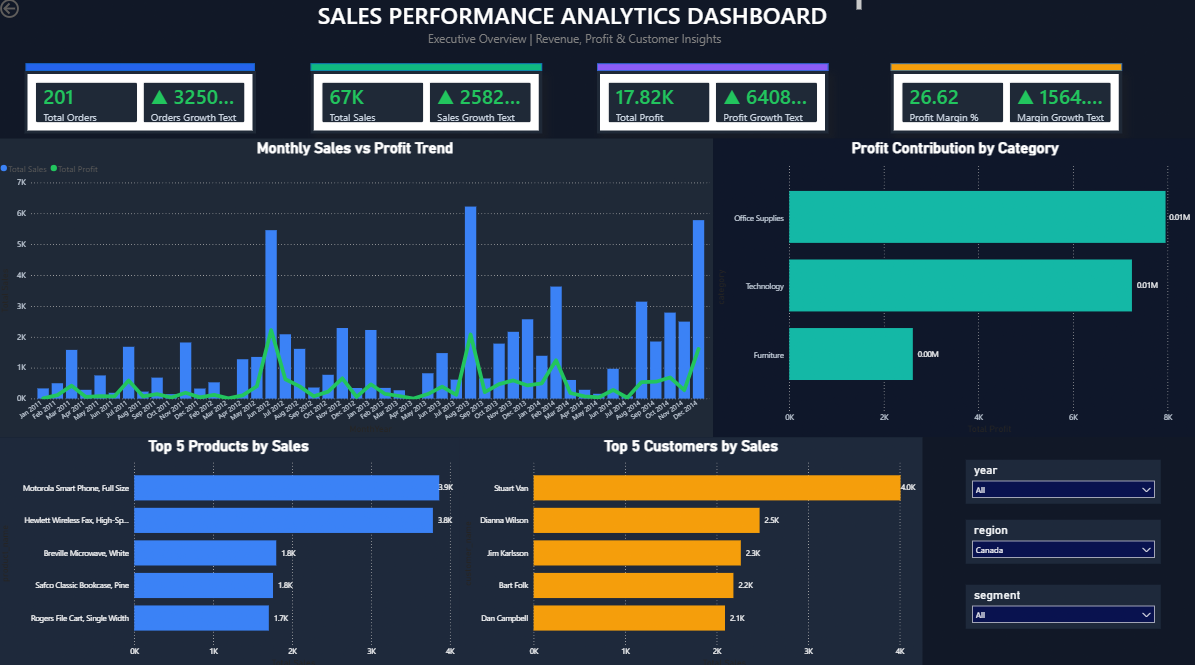

The dashboard page shown, as its layout file describes it:
{"tool":"powerbi","page":{"name":"Page 1","canvas":[1920,1080],"ordinal":0},"visuals":[{"type":"textbox","box":[460.6,0,927.9,50.2],"z":0},{"type":"textbox","box":[574.5,50.2,700.1,48.6],"z":1000},{"type":"cardVisual","fields":{"Data":["SuperStoreOrders_PowerBI.Total Orders","SuperStoreOrders_PowerBI.Orders Growth Text"]},"box":[44,120,370,100],"z":2000},{"type":"cardVisual","fields":{"Data":["SuperStoreOrders_PowerBI.Profit Margin %","SuperStoreOrders_PowerBI.Margin Growth Text"]},"box":[1430,120,370,100],"z":3000},{"type":"cardVisual","fields":{"Data":["SuperStoreOrders_PowerBI.Total Profit","SuperStoreOrders_PowerBI.Profit Growth Text"]},"box":[960,120,370,100],"z":4000},{"type":"cardVisual","fields":{"Data":["SuperStoreOrders_PowerBI.Total Sales","SuperStoreOrders_PowerBI.Sales Growth Text"]},"box":[502,120,370,100],"z":5000},{"type":"shape","box":[46,108,366,12],"z":6000},{"type":"shape","box":[502,108,370,12],"z":7000},{"type":"shape","box":[960,108,370,12],"z":8000},{"type":"shape","box":[1430,108,370,12],"z":9000},{"type":"lineClusteredColumnComboChart","title":"Monthly Sales vs Profit Trend","fields":{"Category":["SuperStoreOrders_PowerBI.MonthYear"],"Y":["SuperStoreOrders_PowerBI.Total Sales"],"Y2":["SuperStoreOrders_PowerBI.Total Profit"]},"box":[0,228.5,1145.9,477.9],"z":9001},{"type":"clusteredBarChart","title":"Profit Contribution by Category","fields":{"Category":["SuperStoreOrders_PowerBI.category"],"Y":["SuperStoreOrders_PowerBI.Total Profit"]},"box":[1145.9,228.5,774.4,477.9],"z":9002},{"type":"clusteredBarChart","title":"Top 5 Products by Sales","fields":{"Category":["SuperStoreOrders_PowerBI.product_name"],"Y":["SuperStoreOrders_PowerBI.Total Sales"]},"box":[0,706,741,374.6],"z":9003},{"type":"clusteredBarChart","title":"Top 5 Customers by Sales","fields":{"Y":["SuperStoreOrders_PowerBI.Total Sales"],"Category":["SuperStoreOrders_PowerBI.customer_name"]},"box":[741,706,741,374.6],"z":9004},{"type":"slicer","fields":{"Values":["SuperStoreOrders_PowerBI.year"]},"box":[1550,742,312,70],"z":9005},{"type":"slicer","fields":{"Values":["SuperStoreOrders_PowerBI.region"]},"box":[1550,838,312,70],"z":9006},{"type":"slicer","fields":{"Values":["SuperStoreOrders_PowerBI.segment"]},"box":[1550,942,312,70],"z":9007},{"type":"actionButton","box":[0,0,100,40],"z":9009}]}

Visuals, with their boxes in screenshot pixels (x1, y1, x2, y2), scaled from the page's 1920x1080 canvas onto the 1195x665 screenshot:
textbox: 287:0:864:31
textbox: 358:31:793:61
cardVisual - SuperStoreOrders_PowerBI.Total Orders x SuperStoreOrders_PowerBI.Orders Growth Text: 27:74:258:135
cardVisual - SuperStoreOrders_PowerBI.Profit Margin % x SuperStoreOrders_PowerBI.Margin Growth Text: 890:74:1120:135
cardVisual - SuperStoreOrders_PowerBI.Total Profit x SuperStoreOrders_PowerBI.Profit Growth Text: 598:74:828:135
cardVisual - SuperStoreOrders_PowerBI.Total Sales x SuperStoreOrders_PowerBI.Sales Growth Text: 312:74:543:135
shape: 29:66:256:74
shape: 312:66:543:74
shape: 598:66:828:74
shape: 890:66:1120:74
"Monthly Sales vs Profit Trend" lineClusteredColumnComboChart: 0:141:713:435
"Profit Contribution by Category" clusteredBarChart: 713:141:1194:435
"Top 5 Products by Sales" clusteredBarChart: 0:435:461:664
"Top 5 Customers by Sales" clusteredBarChart: 461:435:922:664
slicer - SuperStoreOrders_PowerBI.year: 965:457:1159:500
slicer - SuperStoreOrders_PowerBI.region: 965:516:1159:559
slicer - SuperStoreOrders_PowerBI.segment: 965:580:1159:623
actionButton: 0:0:62:25
